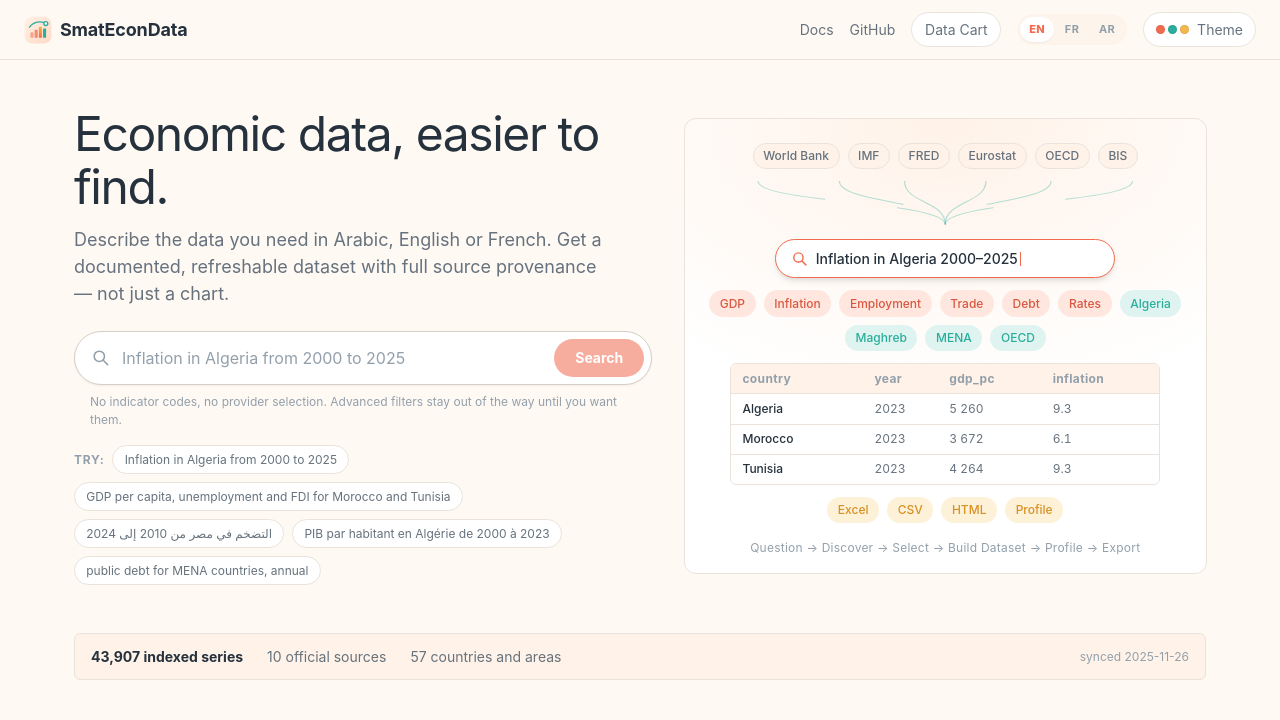
Test: HomePage — zero-friction search › shows plain language on failure, never a stack trace
The width and height of the screenshot is (1280, 720).
Type "inflation in Algeria" into the search field at (332, 358), box [122,338,542,378]
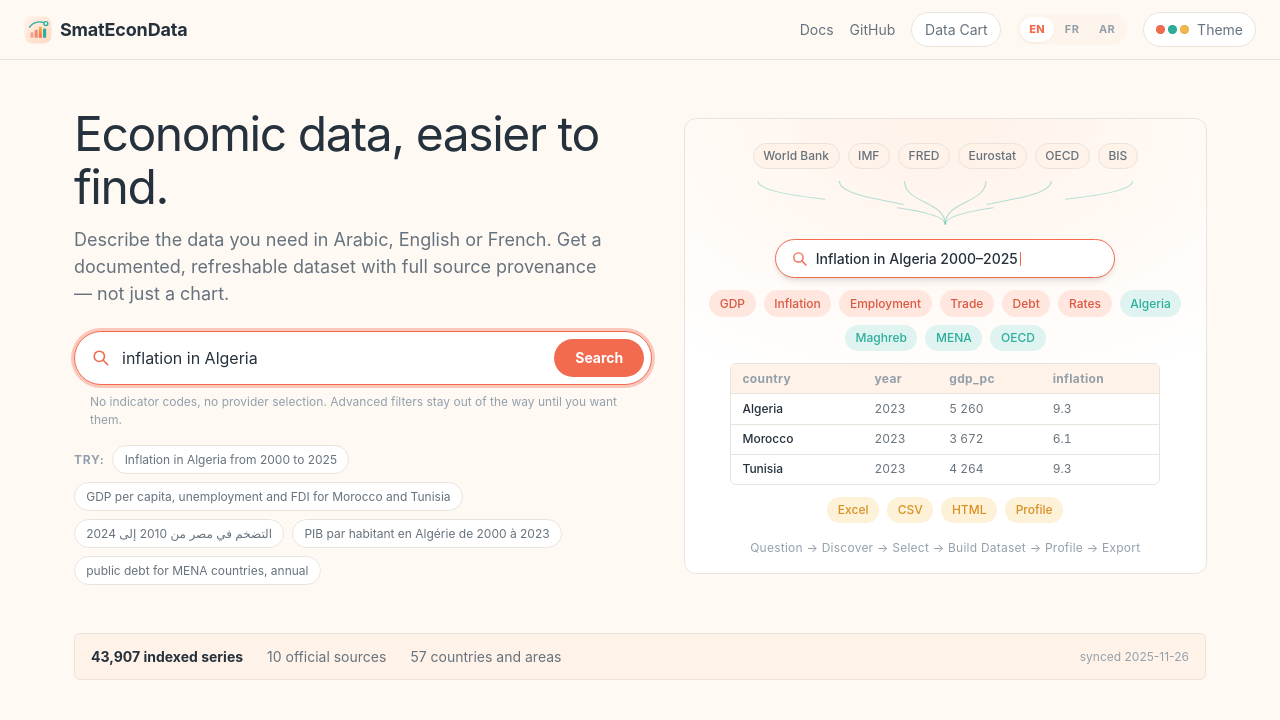
Click the button "Search" at (599, 358), box [554,339,644,377]
(page scrolled)
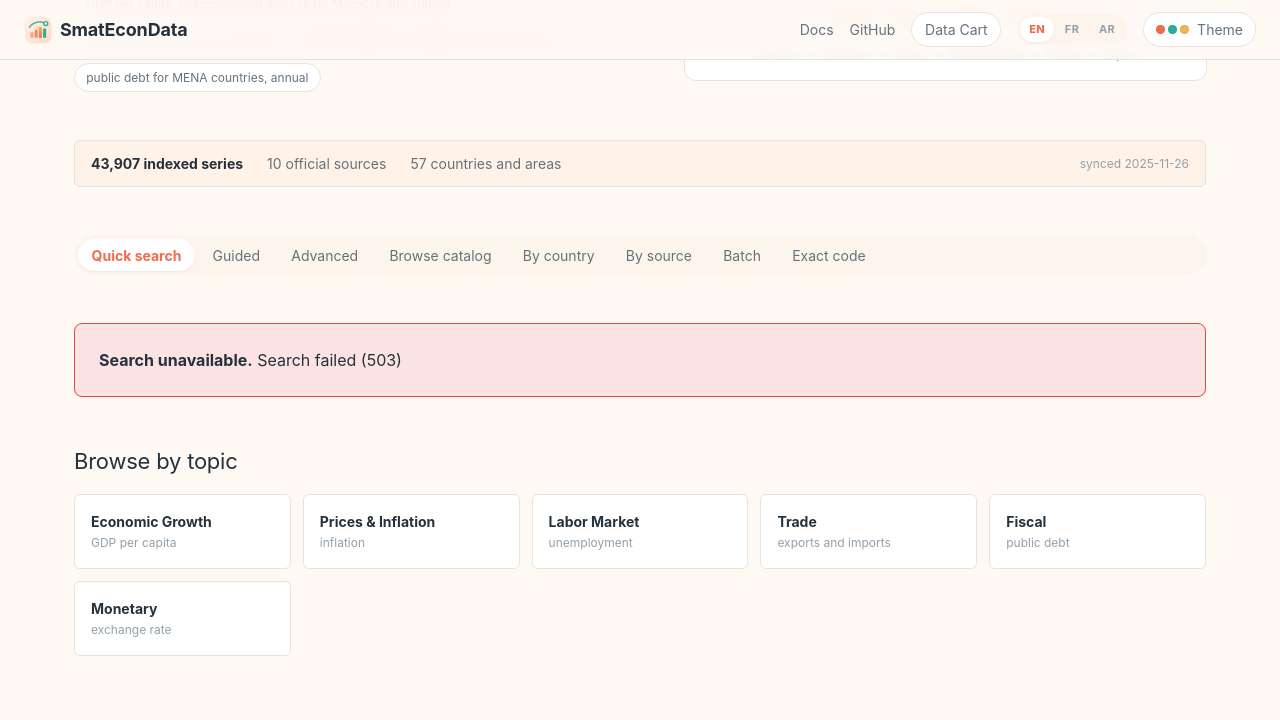
Expected: the message shows "503", [257,350,402,370]
